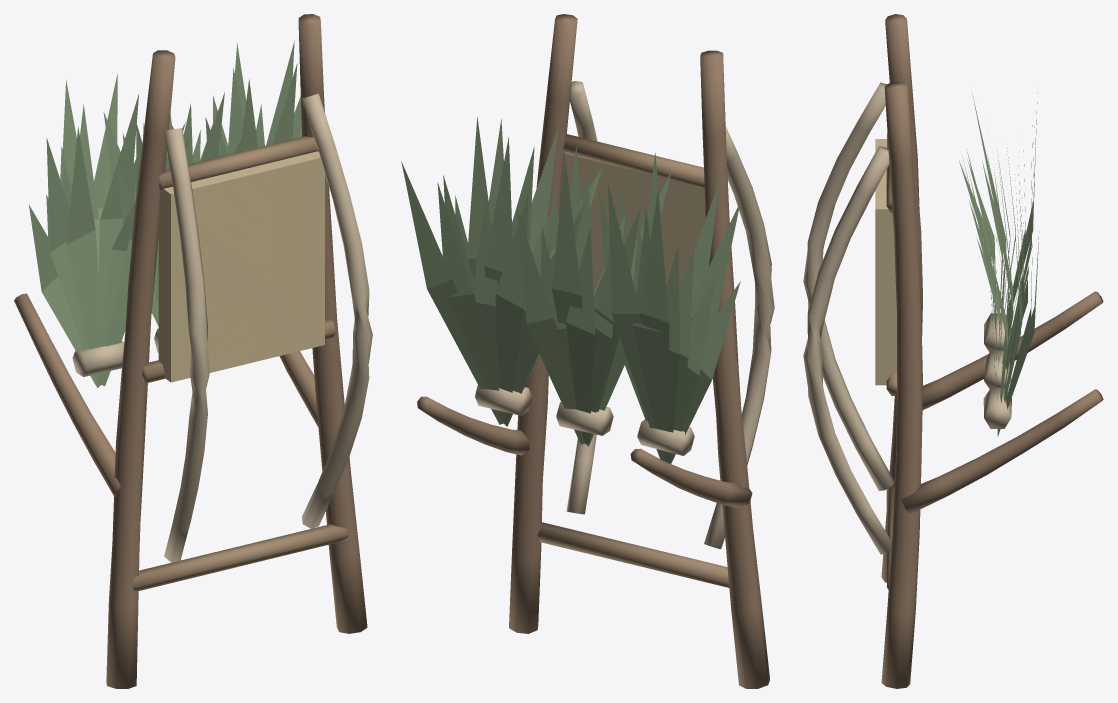
File: JIGE_plant.glb
The picture shows the model from 3 angles, left to right: view 1: azimuth 30°, elevation 25°; view 2: azimuth 150°, elevation 25°; view 3: azimuth 270°, elevation 25°; orthographic projection. The views are drawn at different scales.
Visible parts, largest first — view 1: JIGE, LOAD; view 2: LOAD, JIGE; view 3: JIGE, LOAD.
Part boxes in pixels (x1,y1,x2,y2): JIGE: (14,14,372,688); LOAD: (29,40,301,388); LOAD: (401,117,740,463); JIGE: (417,14,774,688); JIGE: (803,14,1103,688); LOAD: (959,92,1039,436).
Size of the model in its own units: 0.7391 by 1.39 by 0.6495.
